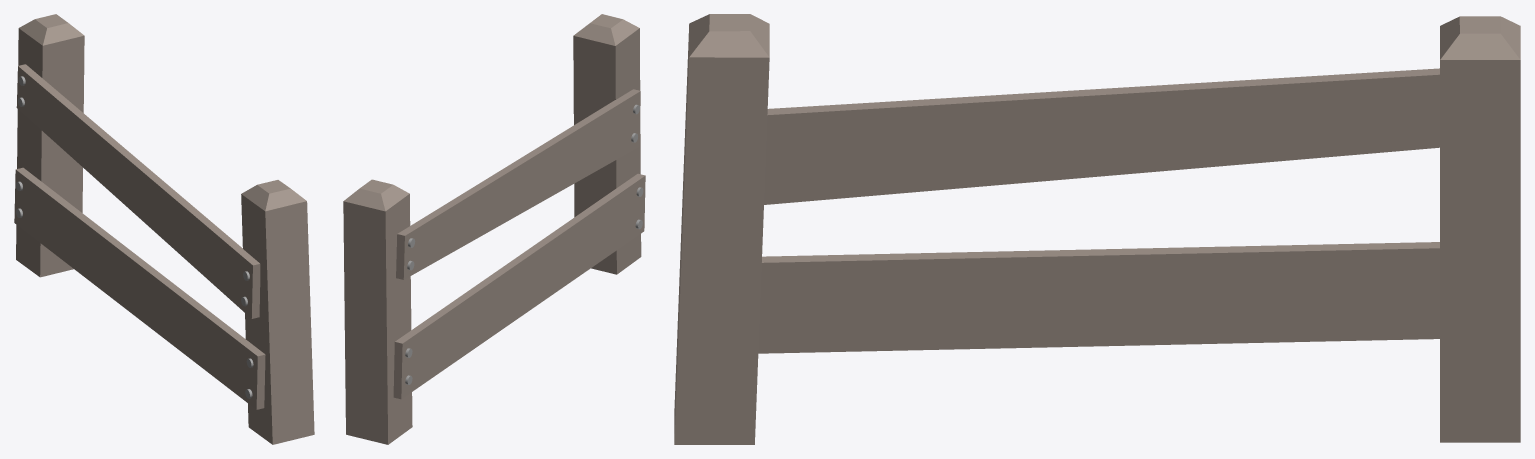
Rendered from Mystic_Fence_1.fbx.
3 renders of one model, left to right at view 1: azimuth 30°, elevation 25°; view 2: azimuth 150°, elevation 25°; view 3: azimuth 270°, elevation 25°, orthographic. The views are drawn at different scales.
Parts seen in each view (by area): view 1: Fence1; view 2: Fence1; view 3: Fence1.
Part boxes in pixels (x1=…): Fence1: x1=14, y1=14, x2=314, y2=444; Fence1: x1=343, y1=14, x2=645, y2=444; Fence1: x1=674, y1=14, x2=1520, y2=444.
Size of the model in its own units: 28.65 by 122 by 232.
